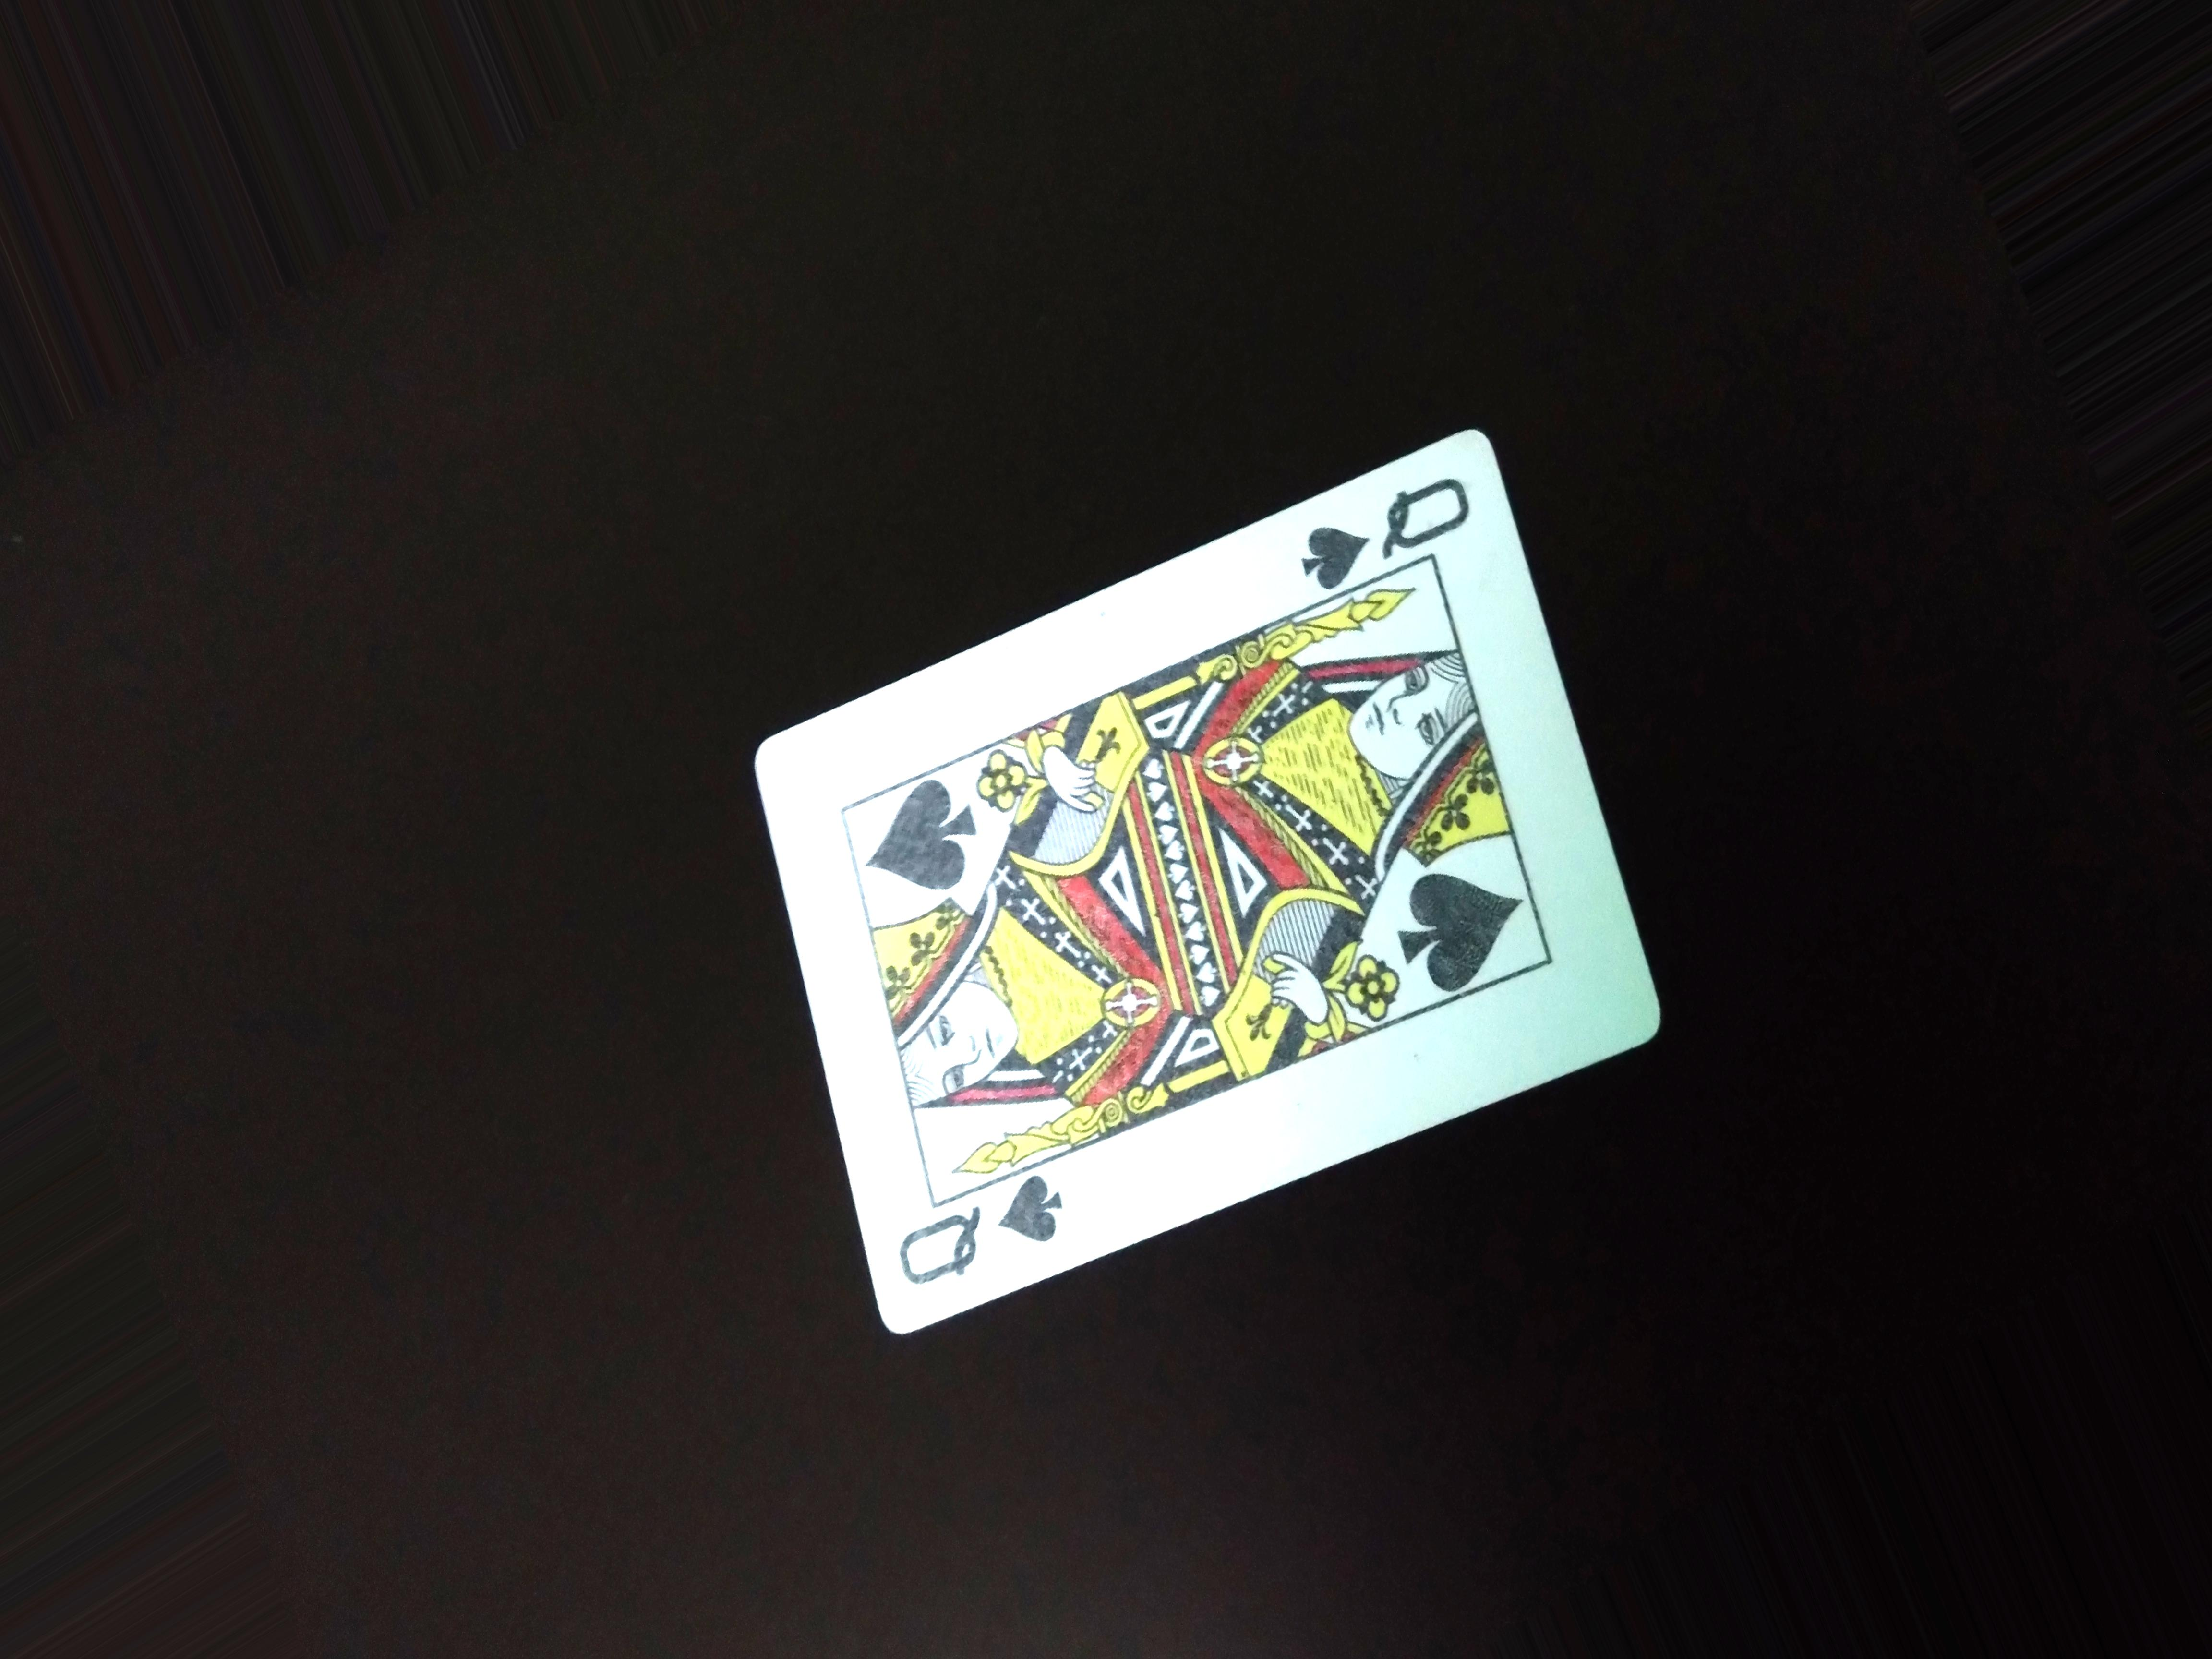QS: (892, 1168, 1108, 1288)
